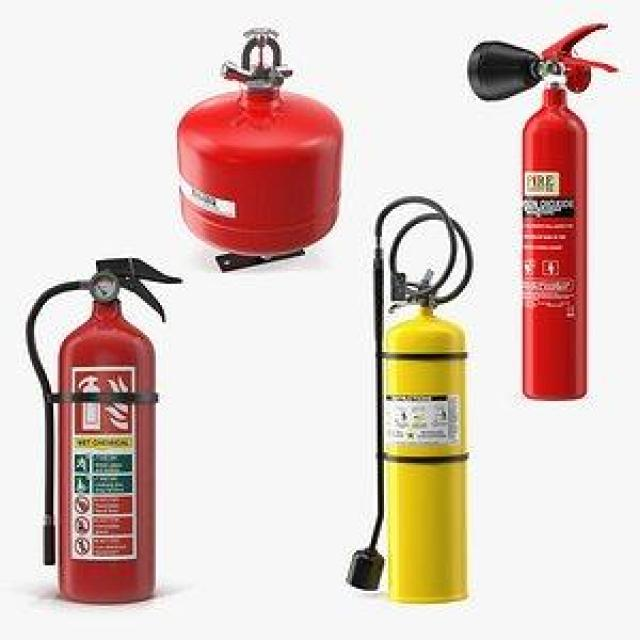fire_extinguisher: (458, 13, 620, 403), (19, 251, 186, 607), (334, 189, 475, 605), (171, 22, 350, 257)
